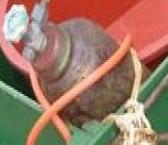cylinder: (0, 1, 168, 145)
